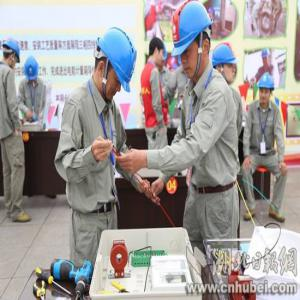blue: (93, 26, 137, 98), (173, 3, 213, 78), (213, 42, 237, 85), (258, 74, 275, 106), (3, 38, 20, 67), (24, 57, 40, 84)
none: (150, 37, 165, 68)
